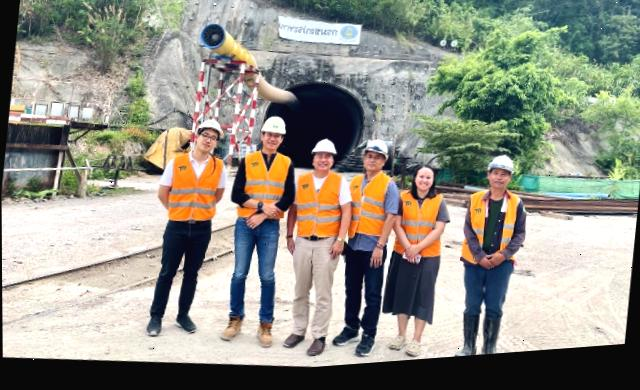helmet: (258, 115, 288, 141), (360, 141, 393, 163), (194, 116, 226, 138), (308, 139, 337, 163), (485, 160, 516, 182)
vest: (461, 194, 522, 271), (162, 155, 221, 228), (235, 153, 288, 224), (294, 170, 342, 247), (392, 196, 444, 265), (343, 173, 389, 248)
